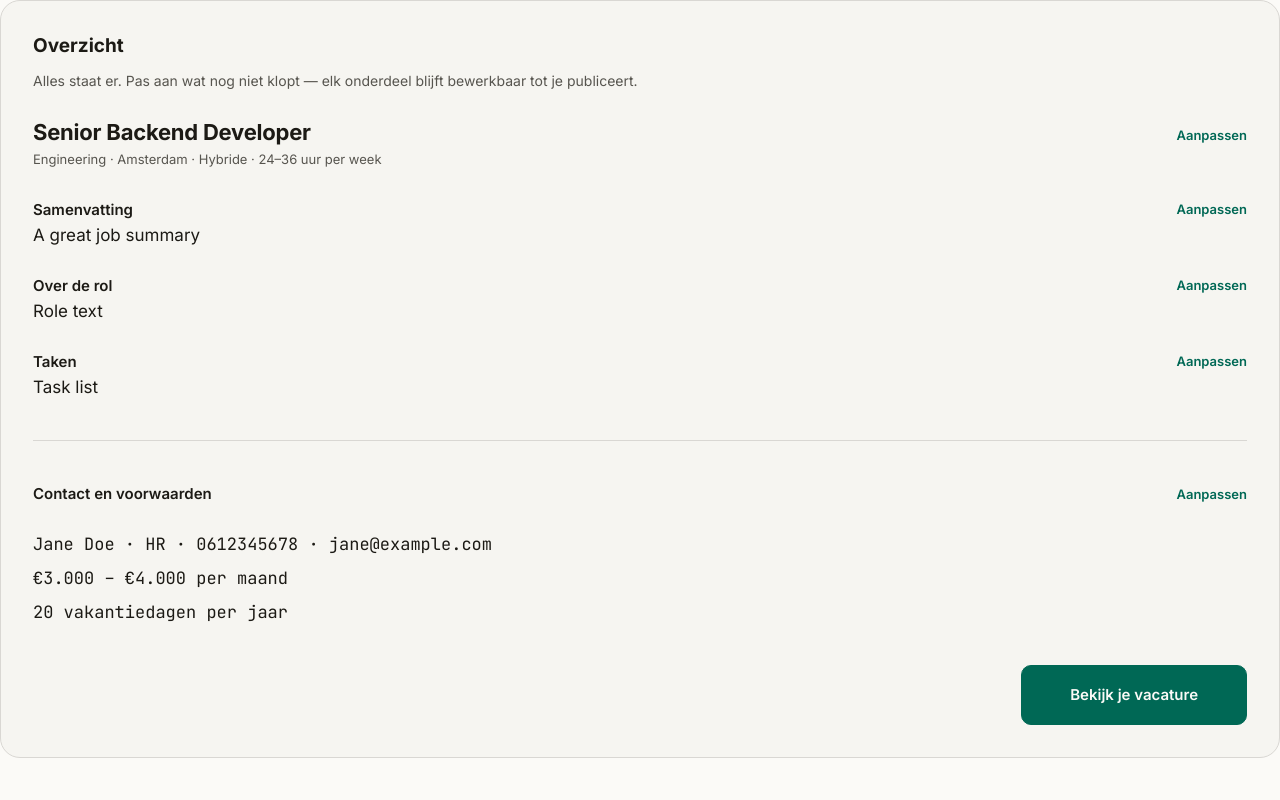
Test: ReviewVacancy › disables "Bekijk je vacature" while a section is mid-edit
Expected: the button "Bekijk je vacature" is enabled, [1021, 665, 1247, 725]
Click the button with aria-label "Aanpassen Samenvatting" at coordinates (1212, 209), box [1176, 196, 1247, 222]
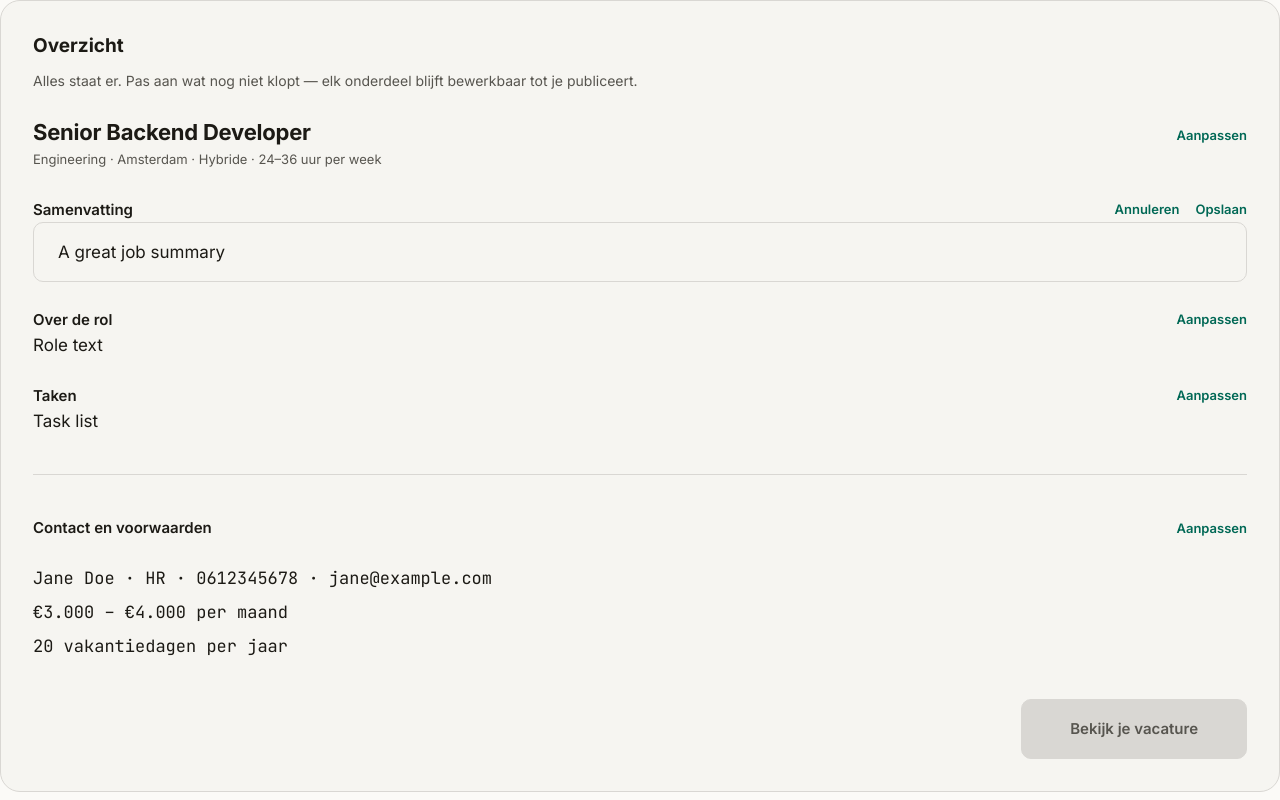
Expected: the button "Bekijk je vacature" is disabled, [1021, 699, 1247, 759]
Click the button "Annuleren" at coordinates (1147, 209), box [1114, 196, 1179, 222]
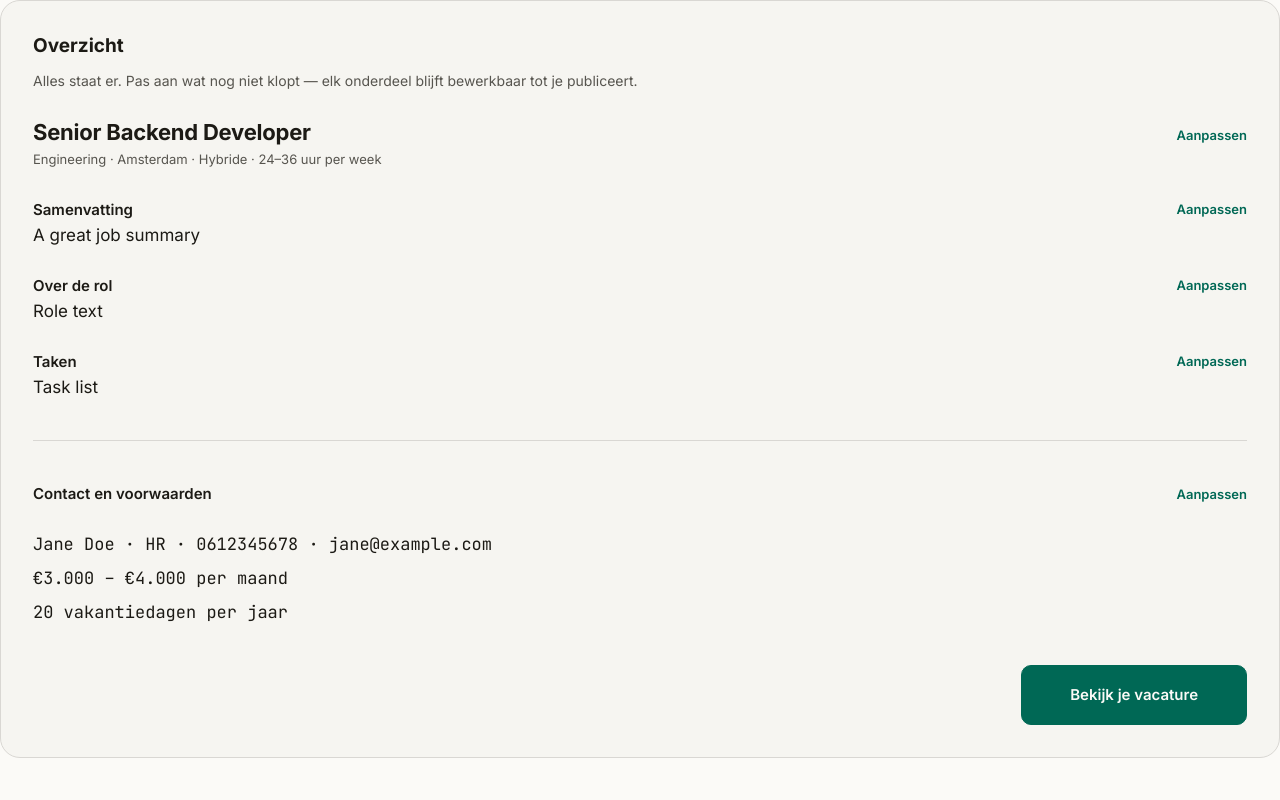
Expected: the button "Bekijk je vacature" is enabled, [1021, 665, 1247, 725]
